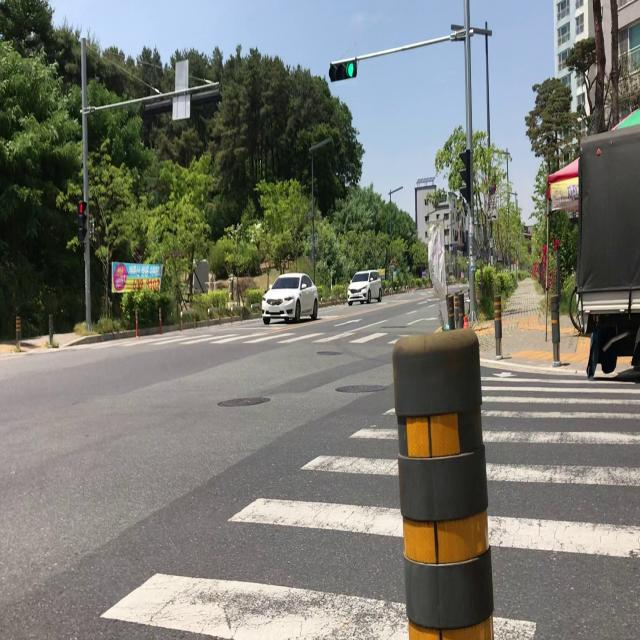빨간불: (77, 200, 86, 242)
횡단보도: (96, 362, 640, 640), (63, 330, 394, 347)
